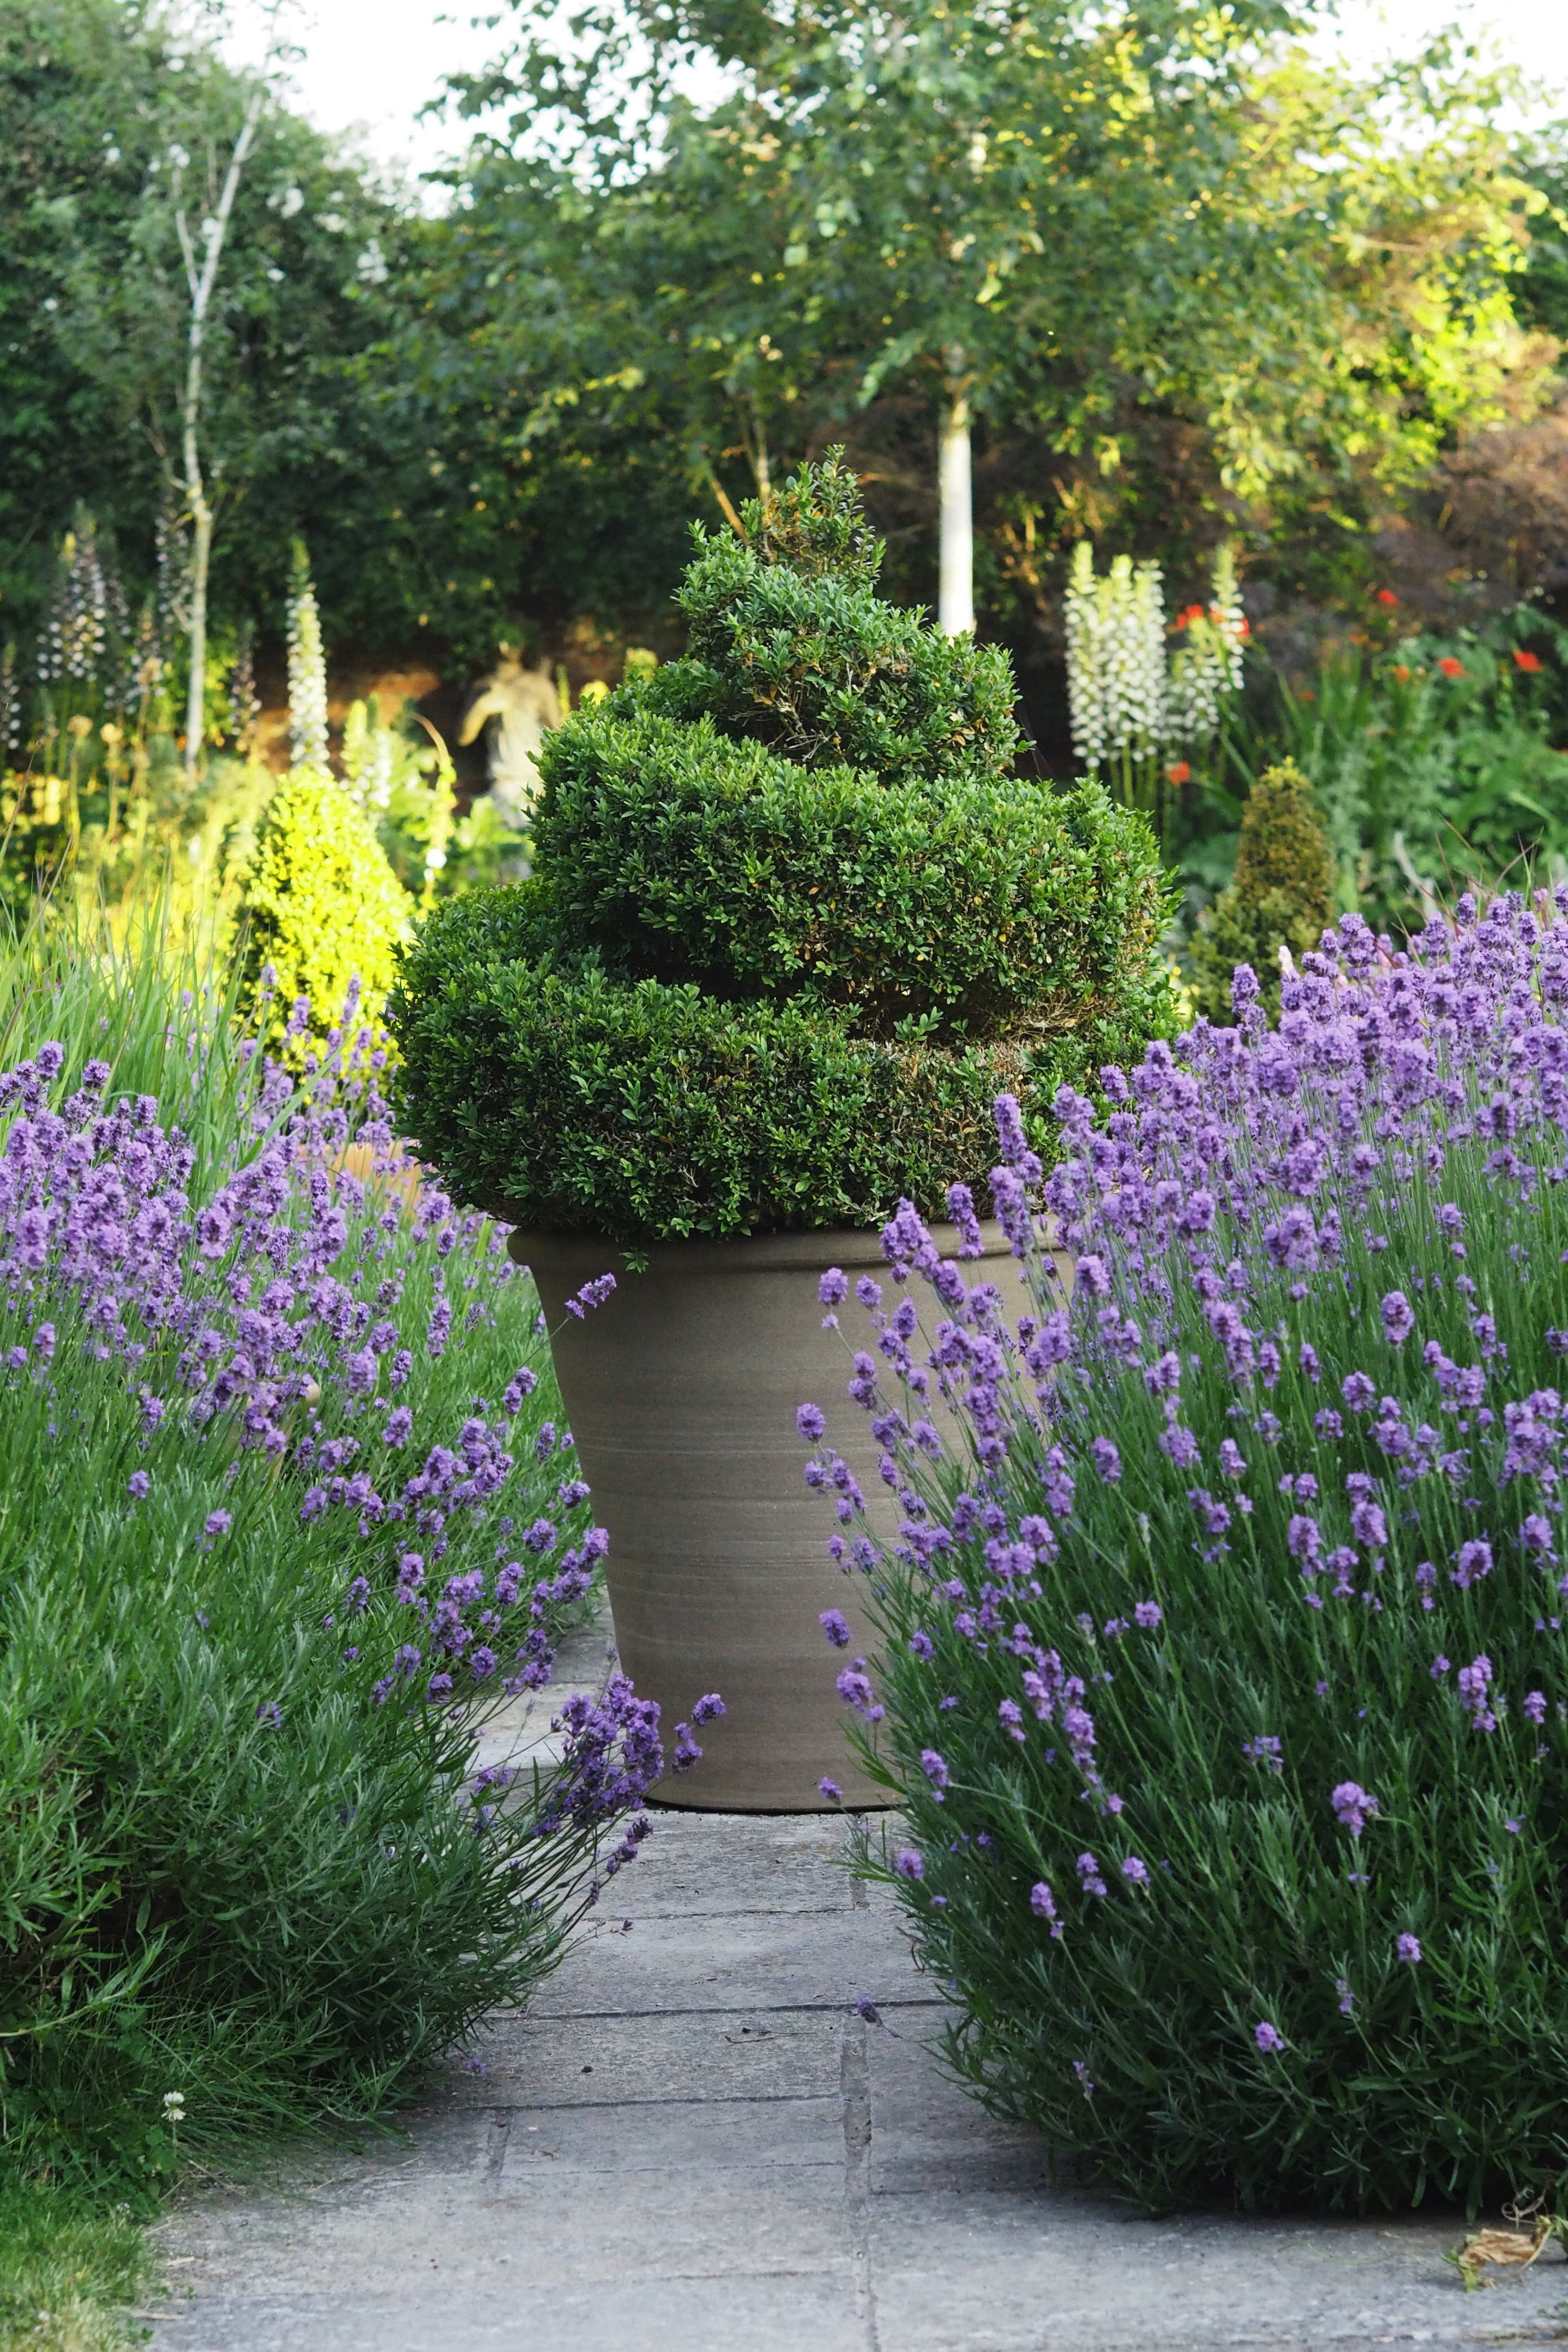plants: (915, 1291, 1531, 2170), (10, 1003, 509, 2067), (488, 535, 1202, 1270)
